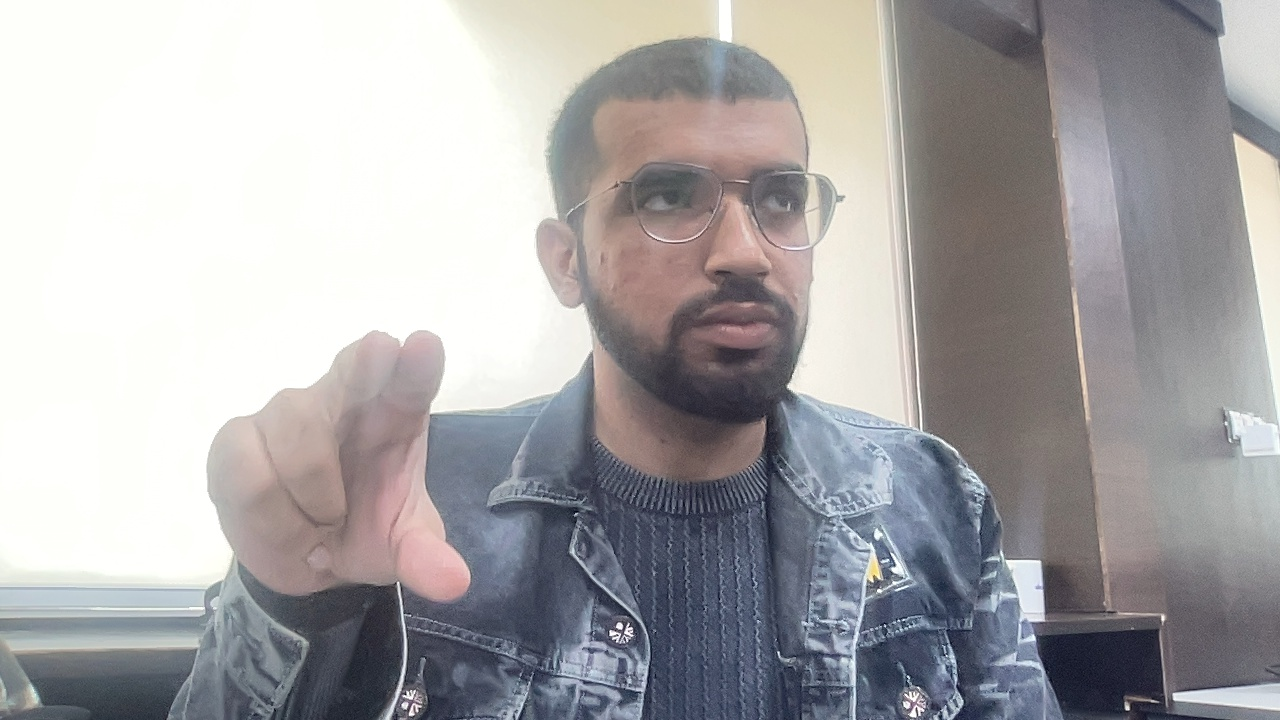No: (141, 322, 520, 614)
